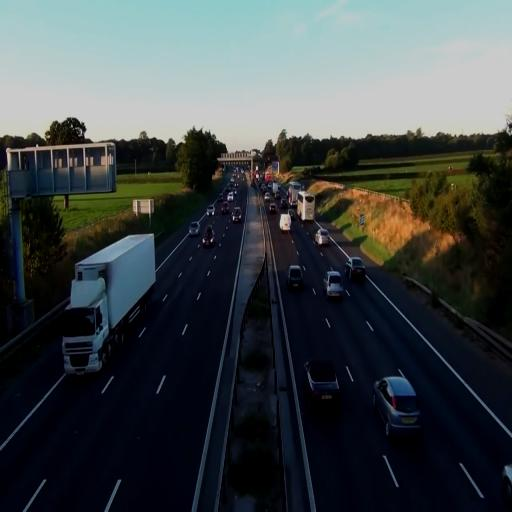vehicle: (61, 232, 156, 376), (373, 373, 422, 440), (304, 358, 342, 415), (325, 269, 343, 301), (346, 257, 366, 282), (287, 264, 304, 289), (315, 229, 330, 249), (202, 226, 214, 248), (279, 213, 291, 232), (189, 222, 200, 236), (232, 208, 240, 224)
